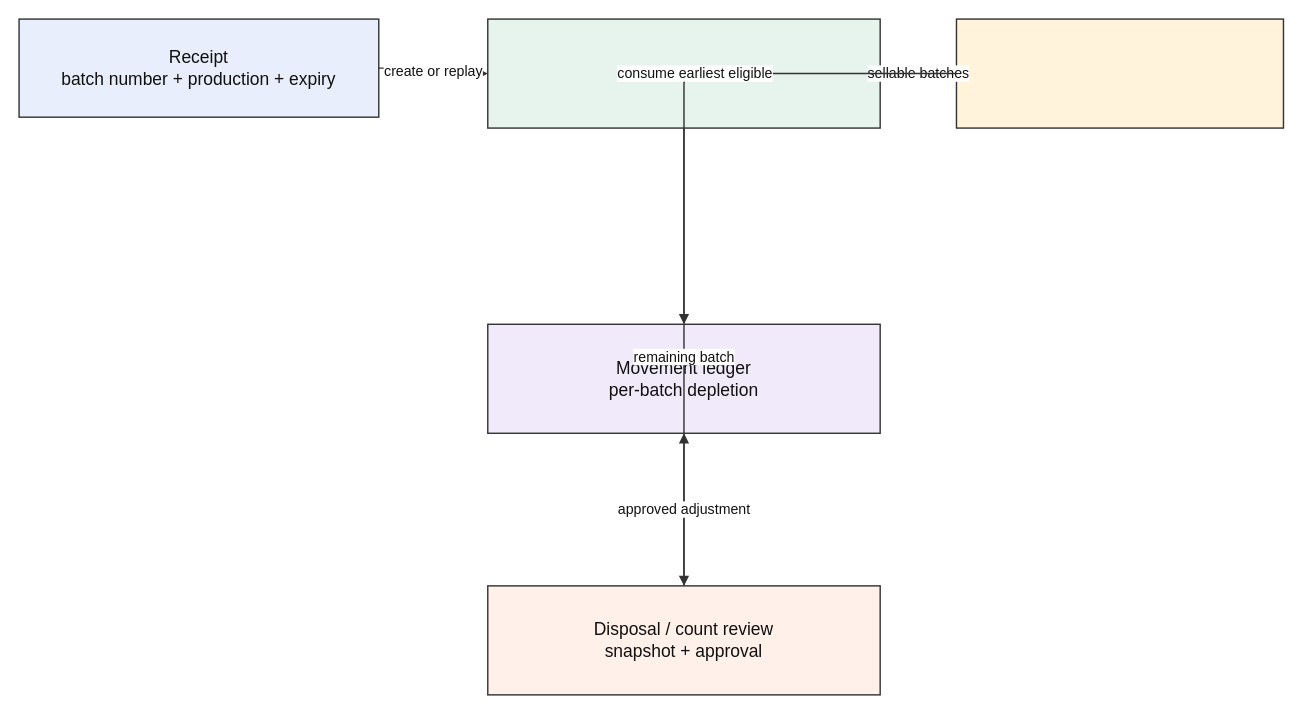
Image size: 1304x715. Some labels were removed from this diagram. Here are the shapes that lost their labels. From the top down, the centre of each, then its label:
At (x=683, y=73): "Inventory batches physical / sellable / quarantined".
At (x=1119, y=73): "Dispatch allocation FEFO when expiry exists FIFO fallback".
